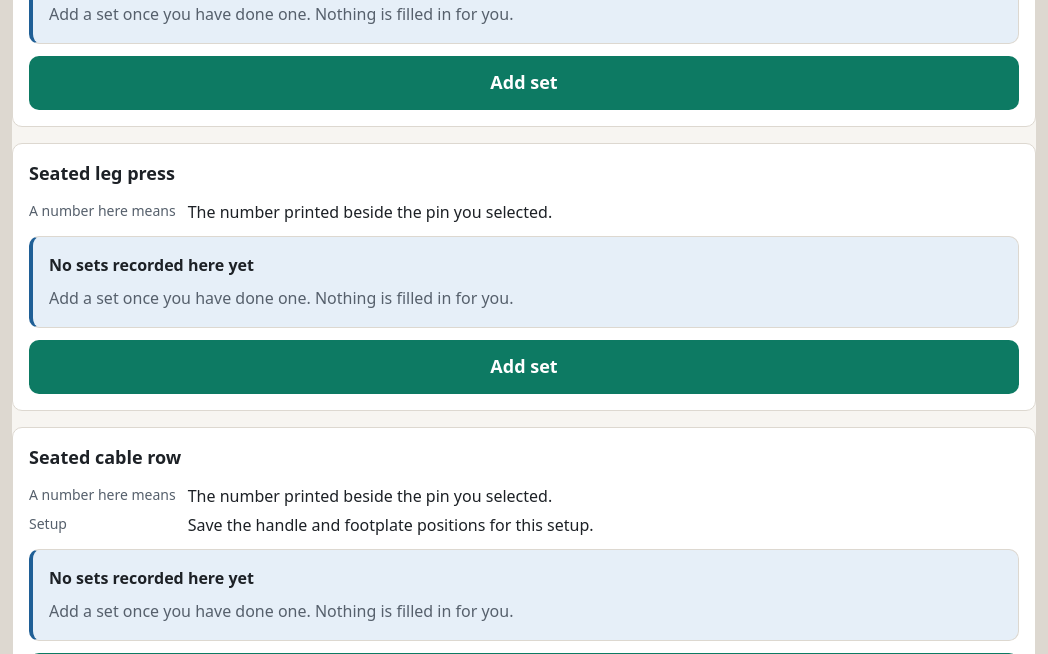
handing ownership back › adopts a stored change once the draft the user typed has been saved
The width and height of the screenshot is (1048, 654).
(page scrolled)
expect the heading "Seated leg press" is shown: met, box [29, 161, 175, 185]
Click the 2nd button "Add set" at (524, 367), box [29, 340, 1019, 394]
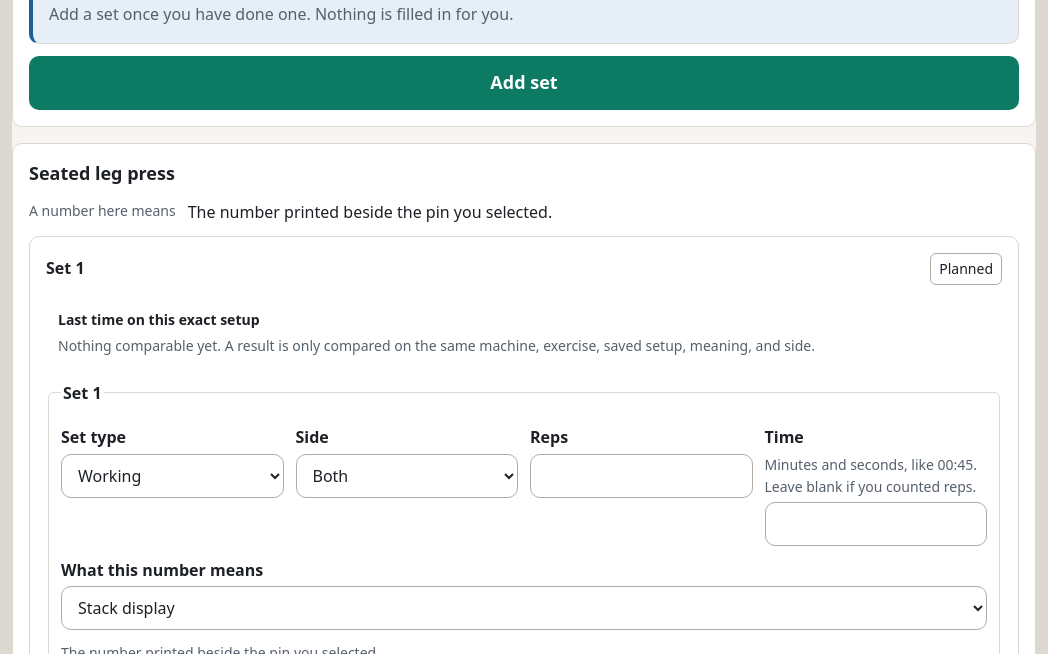
expect the heading "Set 1" is shown: met, box [46, 256, 84, 281]
Click the field labelled "Reps" at (641, 476), box [530, 454, 752, 498]
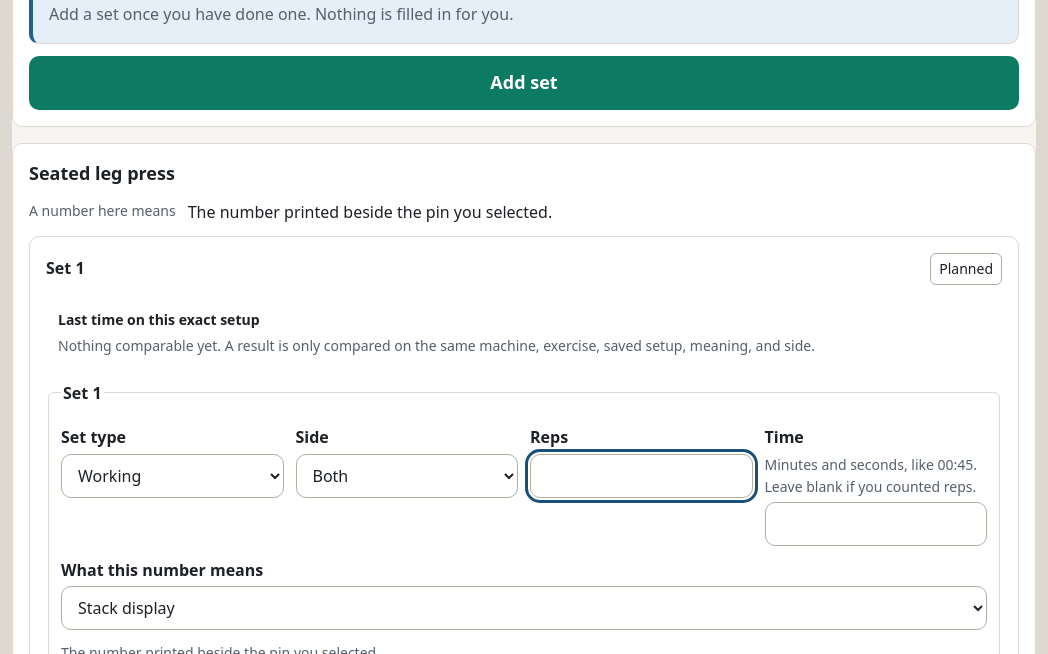
Type keys "10"
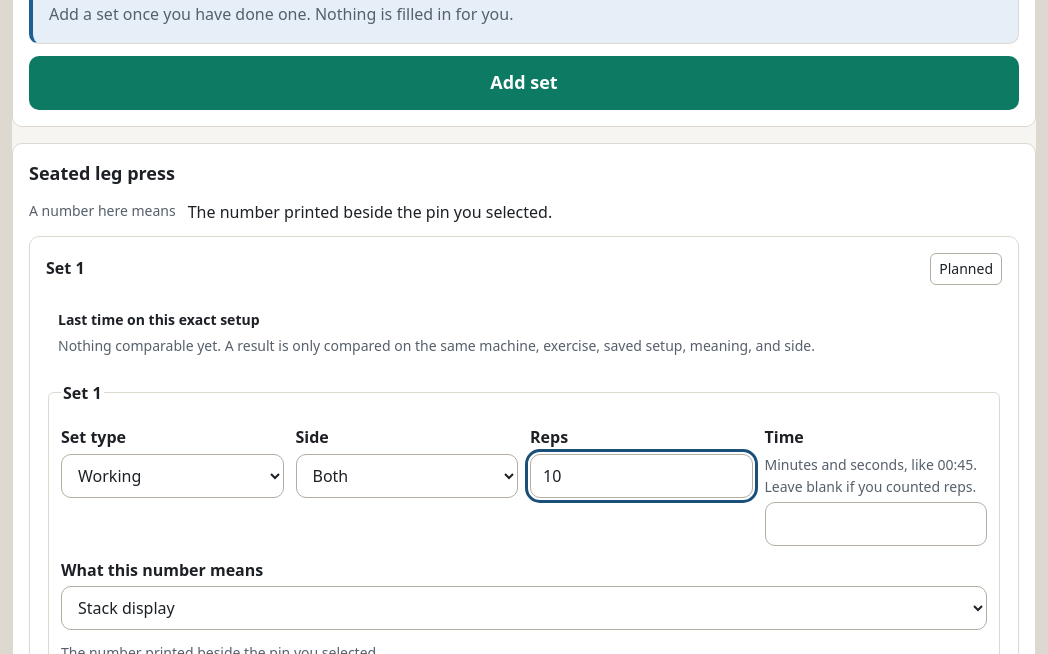
Press Tab
(page scrolled)
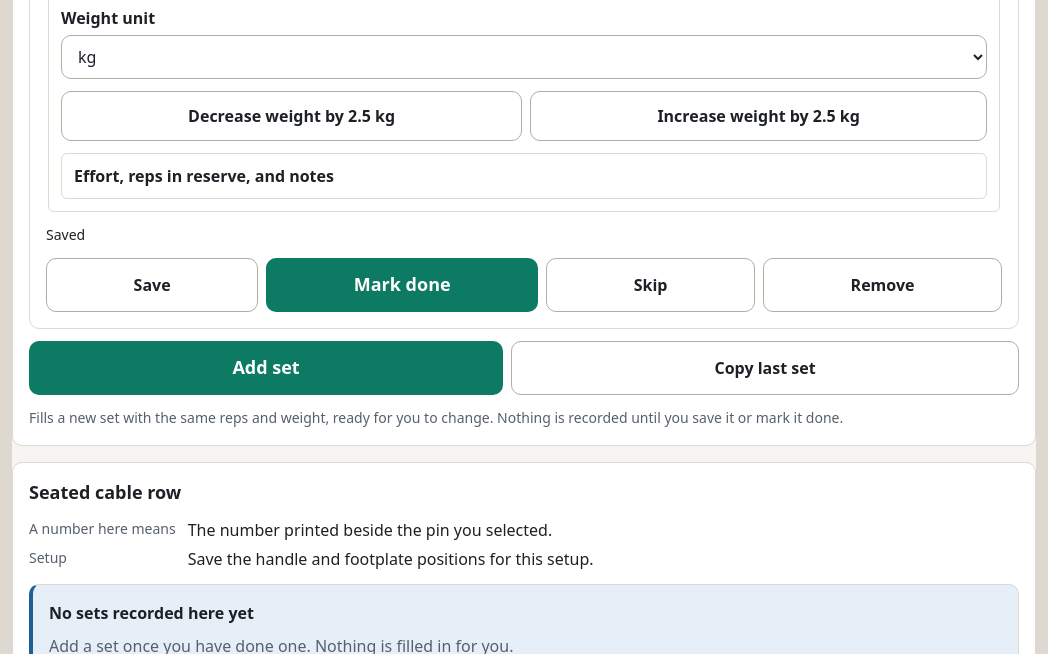
expect the text "Saved" is shown: met, box [46, 225, 85, 244]
Click the button "Add set" below "Effort, reps in reserve, and notes" at (266, 368), box [29, 341, 503, 395]
(page scrolled)
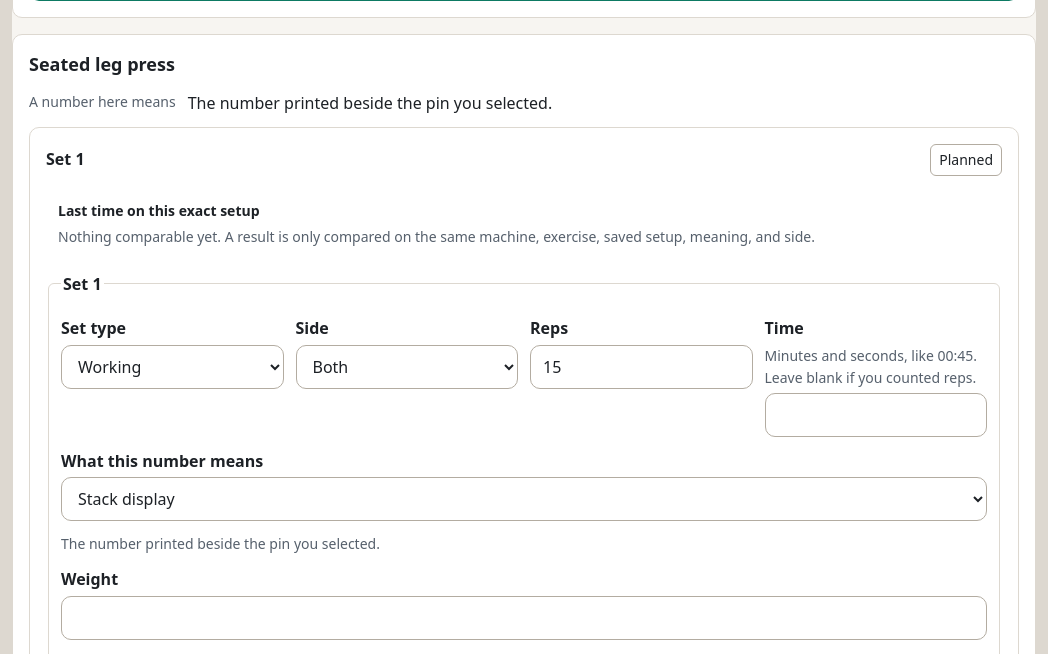
expect the field labelled "Reps" holds "15": met, box [530, 345, 752, 389]
